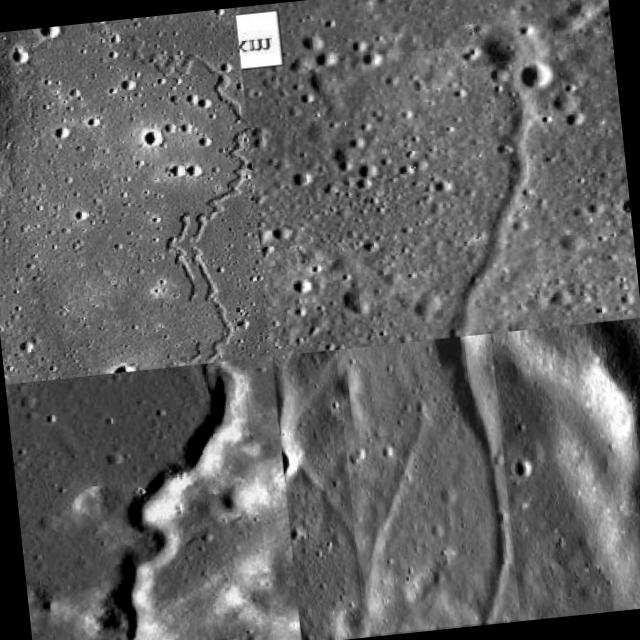rille: (5, 359, 274, 640), (360, 38, 560, 342), (335, 333, 520, 635), (125, 24, 270, 366), (160, 210, 199, 304)
